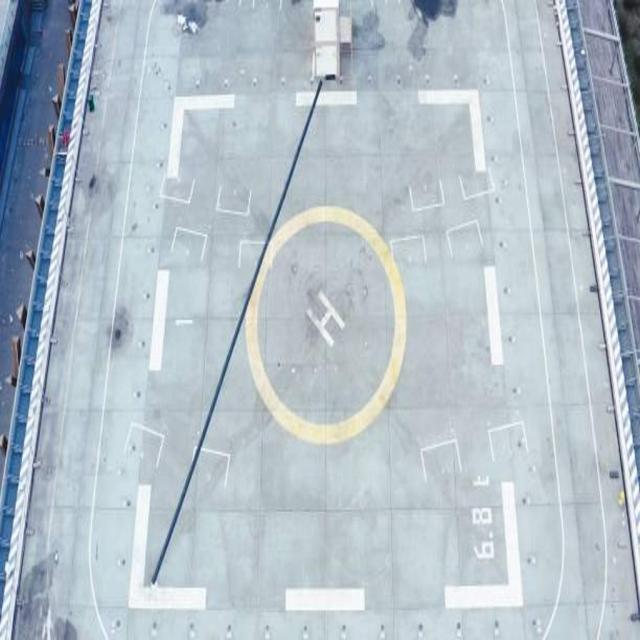helipad: (243, 206, 407, 444)
